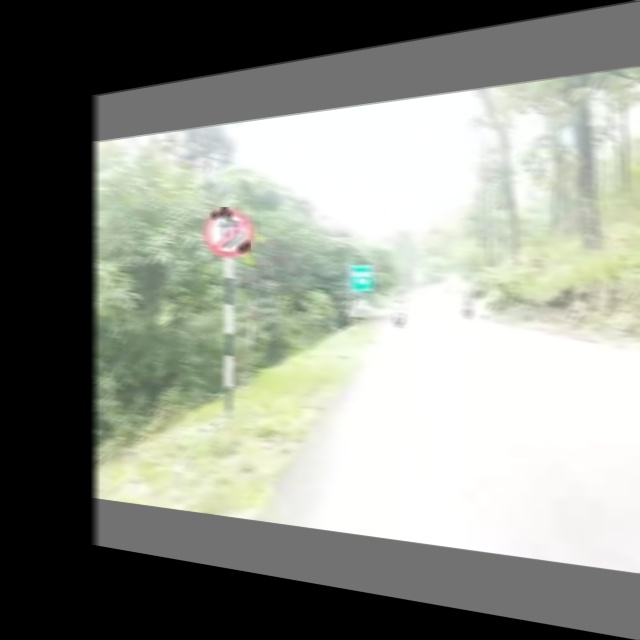Overtaking_Prohibited: (204, 207, 251, 257)
